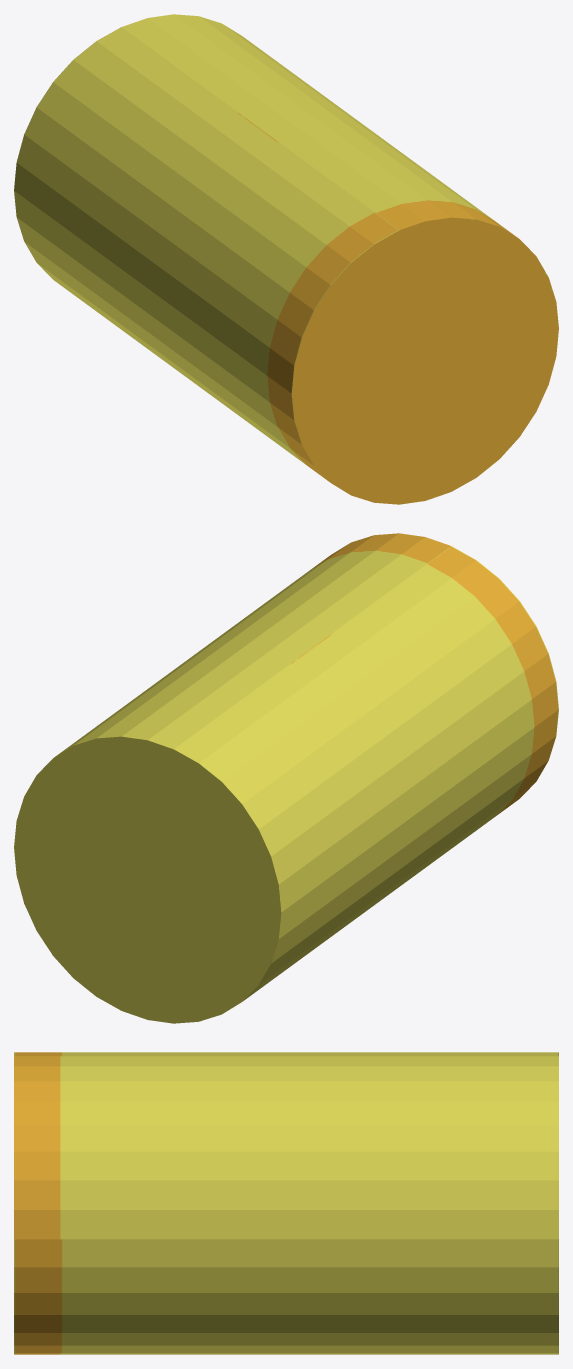
Rendered from BulletCase.obj.
3 renders of one model, top to bottom at view 1: azimuth 30°, elevation 25°; view 2: azimuth 150°, elevation 25°; view 3: azimuth 270°, elevation 25°, orthographic.
Parts seen in each view (by area): view 1: 円柱; view 2: 円柱; view 3: 円柱.
Boxes of the visible parts, x1,y1,x2,y2 form: 円柱: (14,14,558,504); 円柱: (14,533,558,1023); 円柱: (14,1052,558,1354).
Size of the model in its own units: 2 by 2 by 3.6.
Materials: 1 (1 with a texture image).
